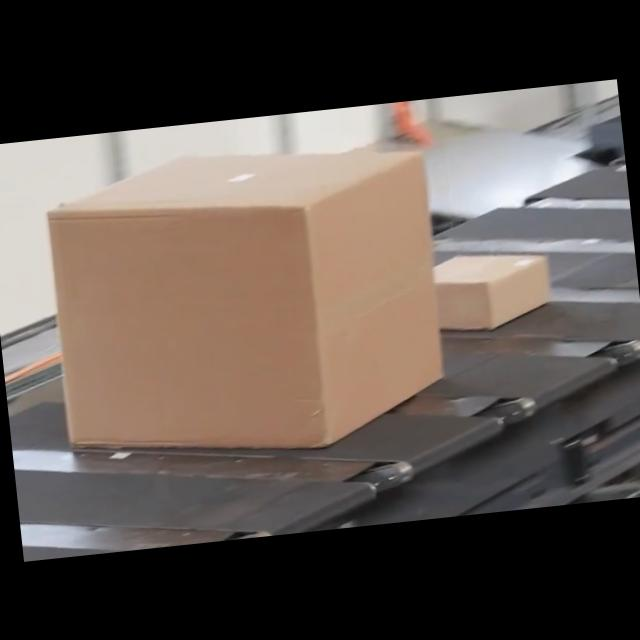box: (41, 130, 454, 468), (434, 245, 554, 332)
